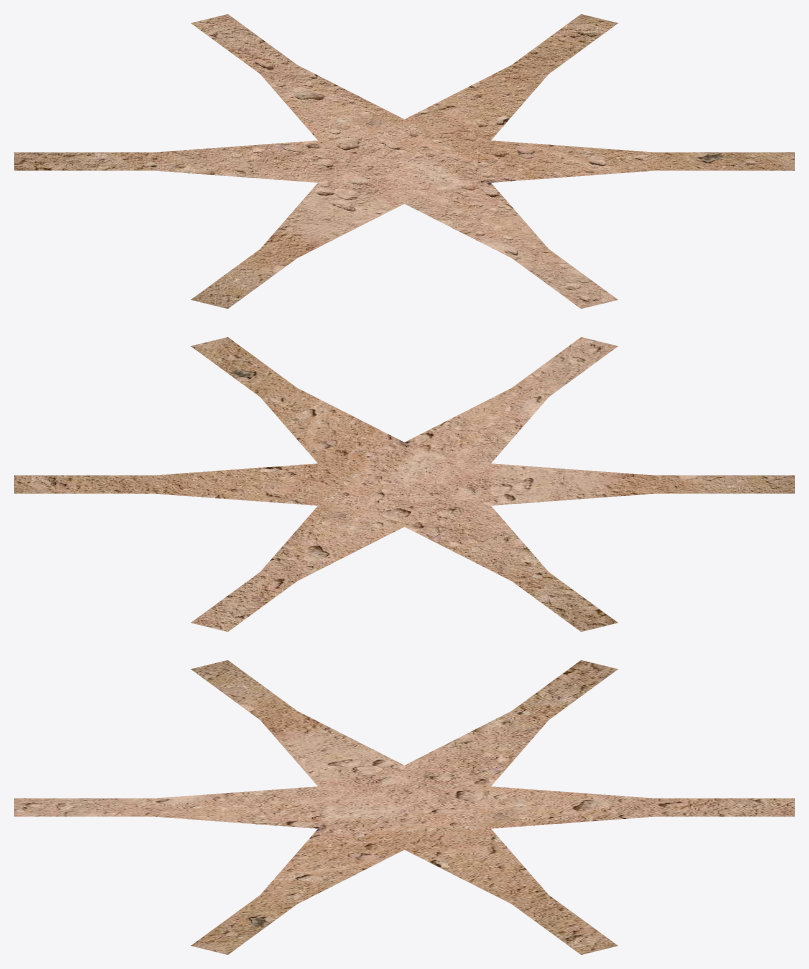
The model's file is road.fbx.
3 views of the same model, one above another, from view 1: azimuth 30°, elevation 25°; view 2: azimuth 150°, elevation 25°; view 3: azimuth 270°, elevation 25° (orthographic).
Parts seen in each view (by area): view 1: hexTile_basic; view 2: hexTile_basic; view 3: hexTile_basic.
Part boxes in pixels (left/top/right/bottom): hexTile_basic: left=14, top=14, right=794, bottom=308; hexTile_basic: left=14, top=337, right=794, bottom=631; hexTile_basic: left=14, top=660, right=794, bottom=954.
Size of the model in its own units: 1.46 by 0.000229 by 1.63.
